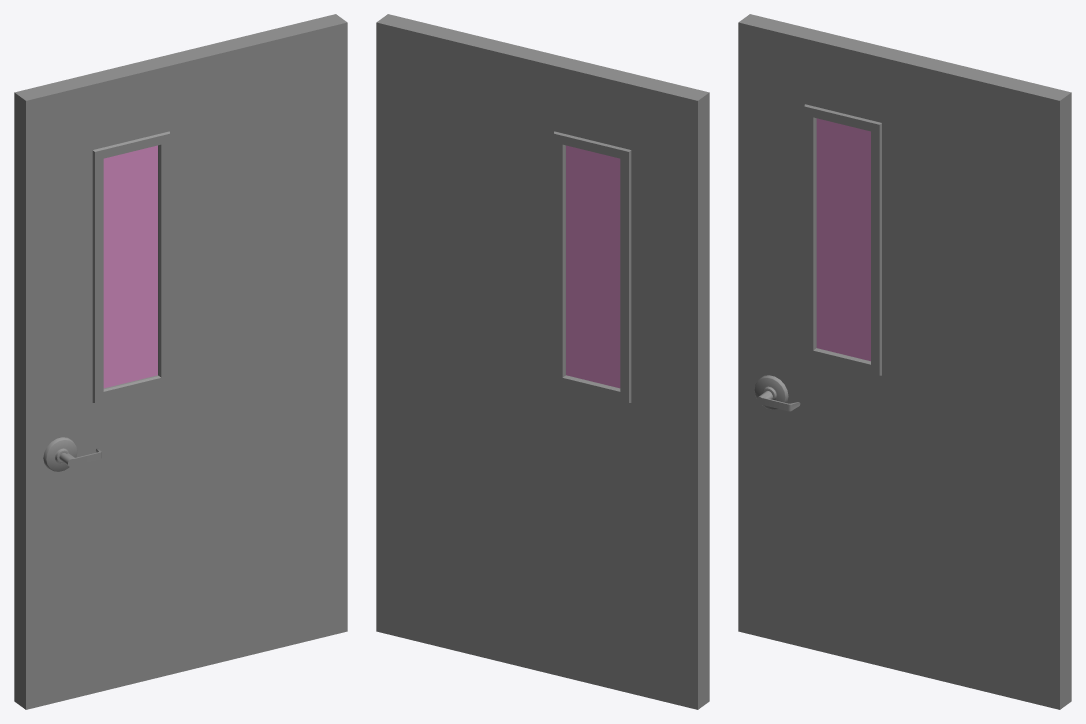
Rendered from SM_Door.FBX.
3 views of the same model, side by side, from view 1: azimuth 30°, elevation 25°; view 2: azimuth 150°, elevation 25°; view 3: azimuth 330°, elevation 25° (orthographic).
Visible parts, largest first — view 1: Door, Door_Handle; view 2: Door; view 3: Door, Door_Handle.
Part boxes in pixels (x1,y1,x2,y2): Door: [14, 14, 347, 709]; Door_Handle: [43, 437, 101, 471]; Door: [376, 14, 709, 709]; Door: [738, 14, 1071, 709]; Door_Handle: [754, 375, 800, 411].
Bounding box in the file's own units: 128 × 232 × 17.29.
